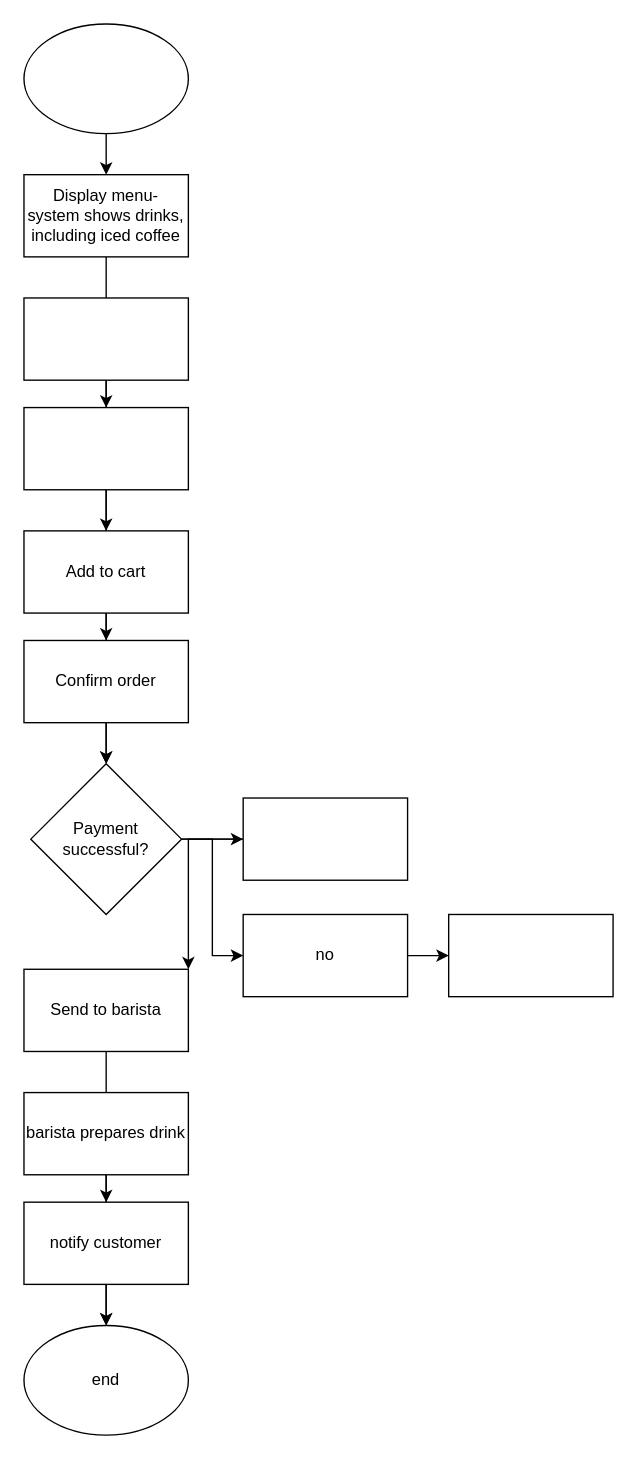
Some shapes in this 637 by 1459 pixel diagram are drawn without their labels. Here are the shapes that lost their labels. From the top down, the centre of each, then its label:
point 105,78: start
point 105,338: Customer selects drink
point 105,448: Choose customizations
point 325,838: yes
point 530,955: retry payment
